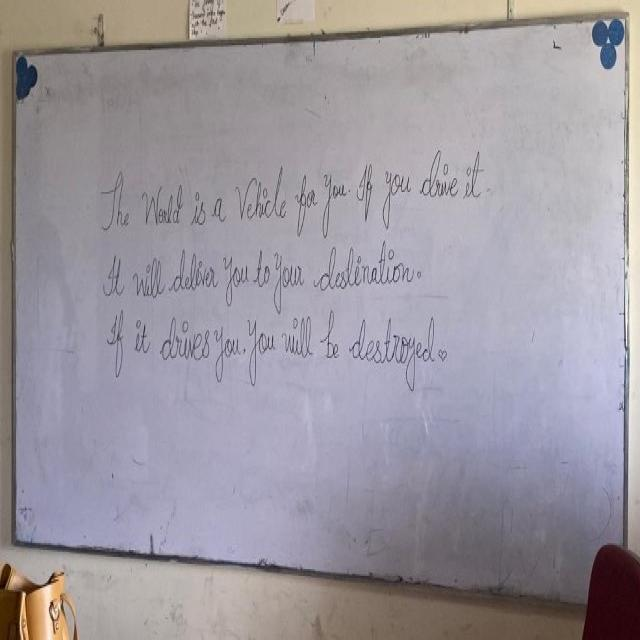White-board: (12, 23, 627, 614)
